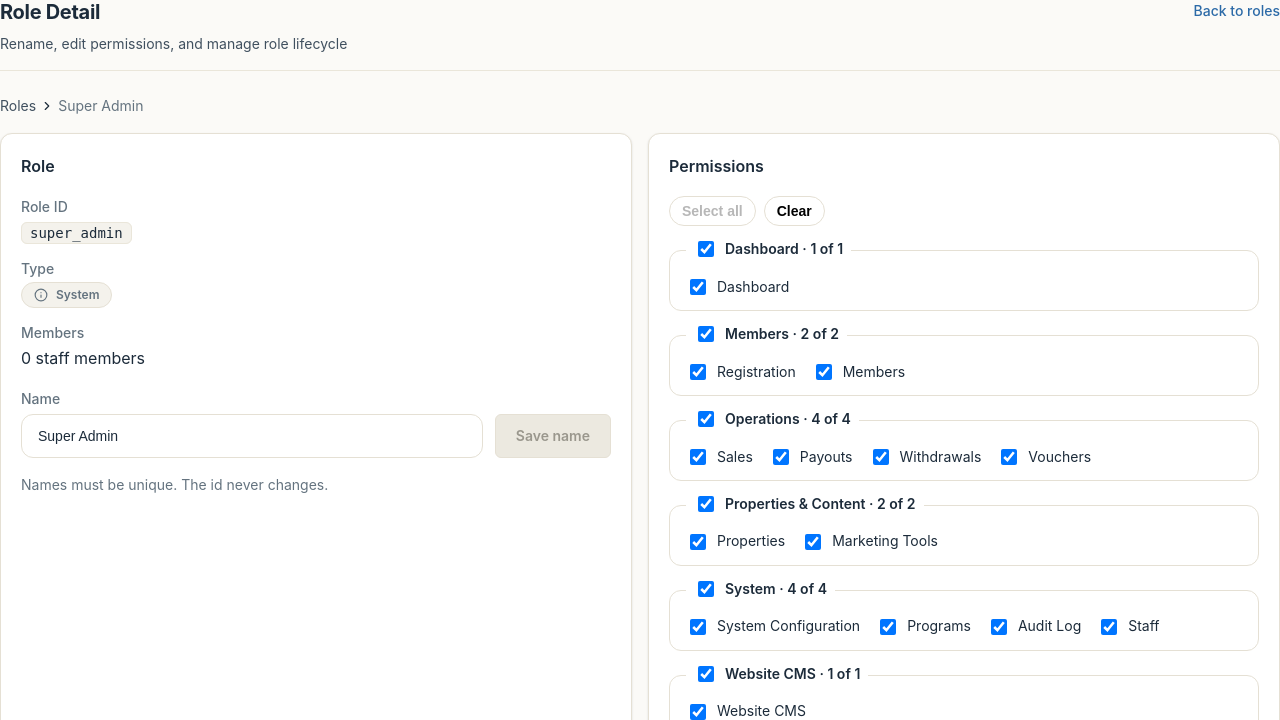
Test: RoleDetailPage › blocks revoking the last governance grant
Click the checkbox labelled "Staff" at coordinates (1109, 627), box [1101, 619, 1117, 635]
(page scrolled)
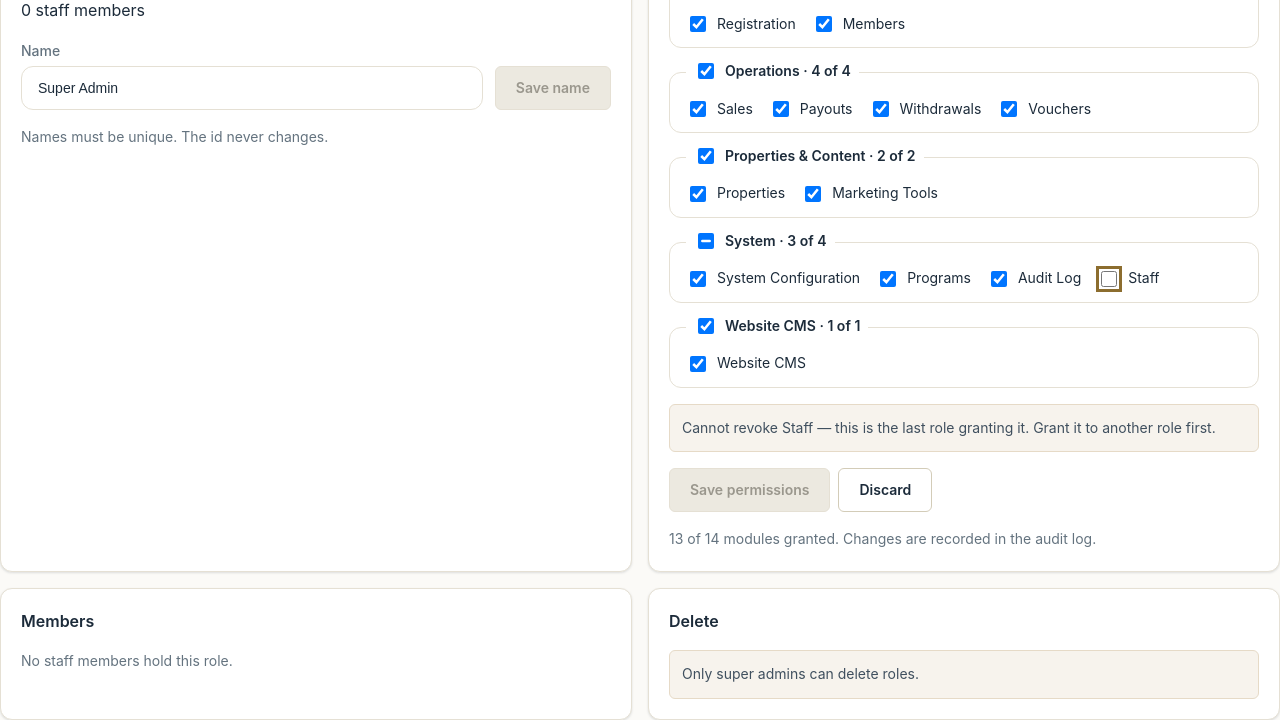
Expected: the button "Save permissions" is disabled, [669, 468, 830, 512]
Result: the text "Cannot revoke Staff" is shown at [682, 419, 1216, 436]
